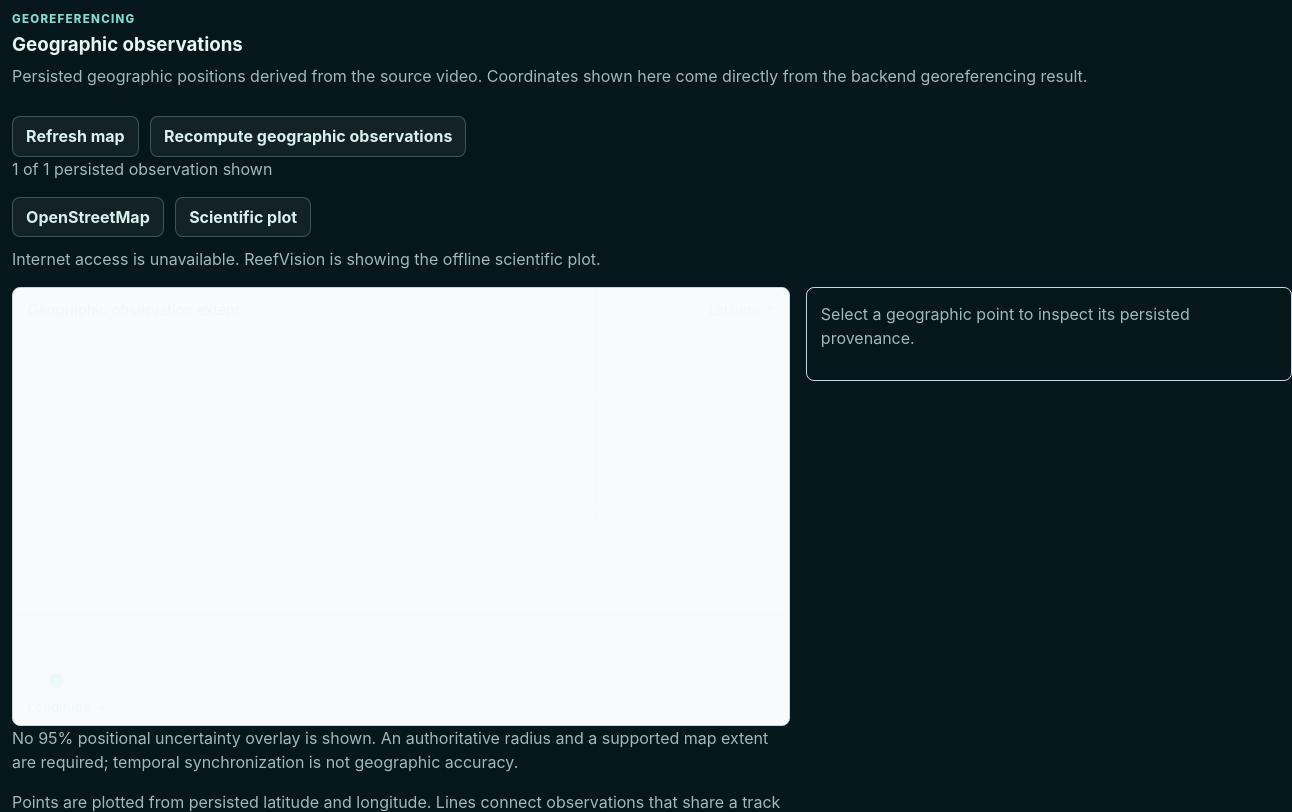
Test case: GeoreferencedMapPanel › retains map points when a refresh fails
What coordinates should you click on to do the following:
click the button "Refresh map"
I would click on:
 (75, 136)
Its box is [12, 116, 139, 157].
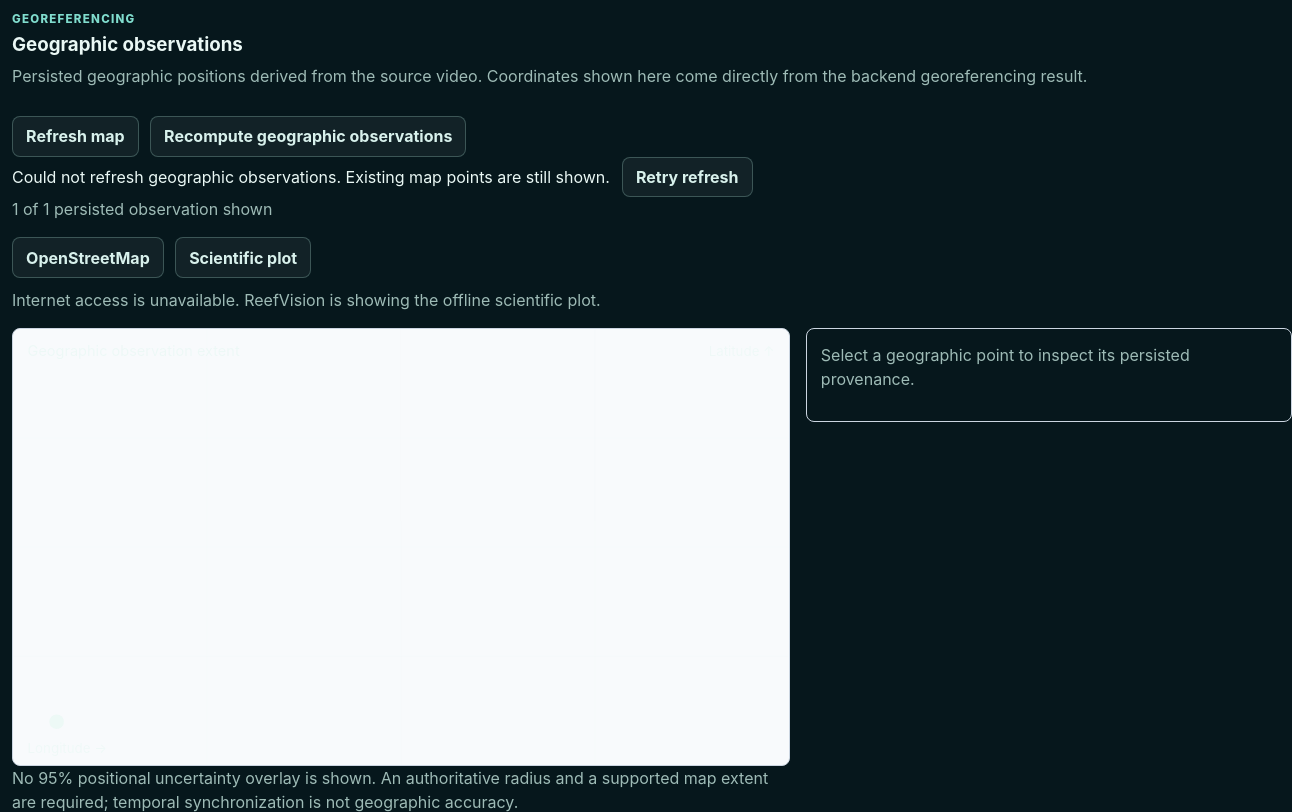
Check: the text "Could not refresh geographic observations" is shown, box [12, 167, 610, 187]
